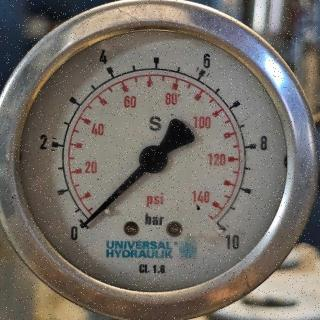gauge: (0, 0, 320, 320), (205, 212, 243, 250), (66, 209, 102, 243), (138, 144, 168, 174), (77, 217, 91, 231)
